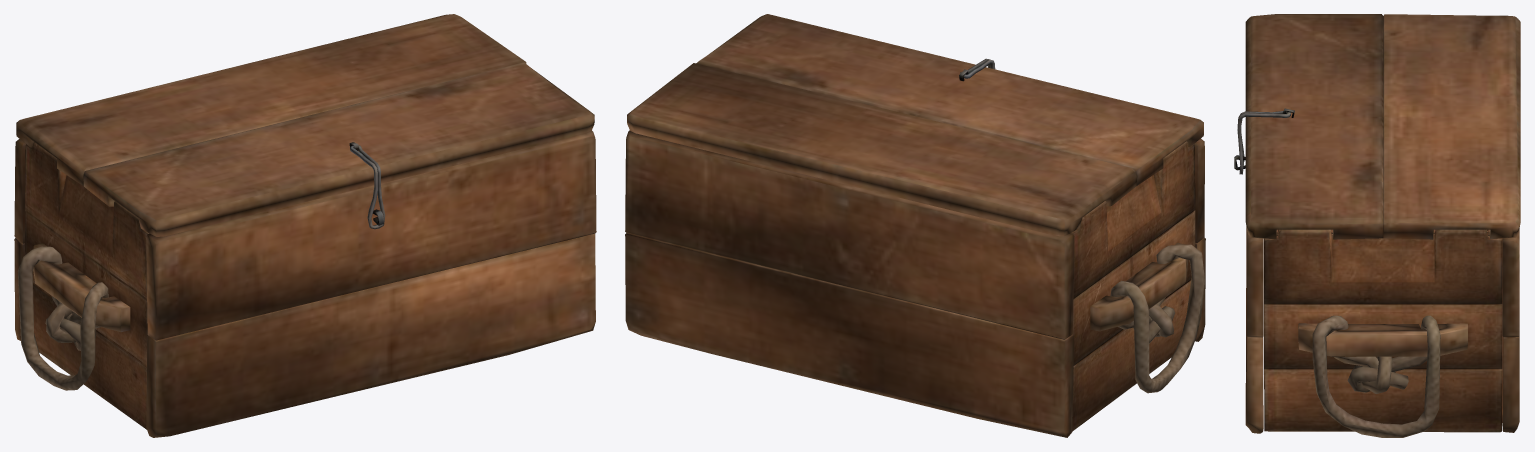
The picture shows the model from 3 angles, left to right: view 1: azimuth 30°, elevation 25°; view 2: azimuth 150°, elevation 25°; view 3: azimuth 270°, elevation 25°; orthographic projection. The views are drawn at different scales.
Visible parts, largest first — view 1: wooden_crate_01, wooden_crate_01_lid, wooden_crate_01_latch; view 2: wooden_crate_01, wooden_crate_01_lid; view 3: wooden_crate_01_lid, wooden_crate_01, wooden_crate_01_latch.
Boxes of the visible parts, <box> form: wooden_crate_01: <box>14,130,596,437</box>; wooden_crate_01_lid: <box>16,14,594,236</box>; wooden_crate_01_latch: <box>350,145,385,229</box>; wooden_crate_01: <box>625,130,1205,437</box>; wooden_crate_01_lid: <box>627,14,1203,236</box>; wooden_crate_01_lid: <box>1245,14,1520,239</box>; wooden_crate_01: <box>1234,155,1519,437</box>; wooden_crate_01_latch: <box>1237,111,1290,174</box>.
Bounding box in the file's own units: 0.8245 × 0.3471 × 0.4069.
1 material, 1 textured.
